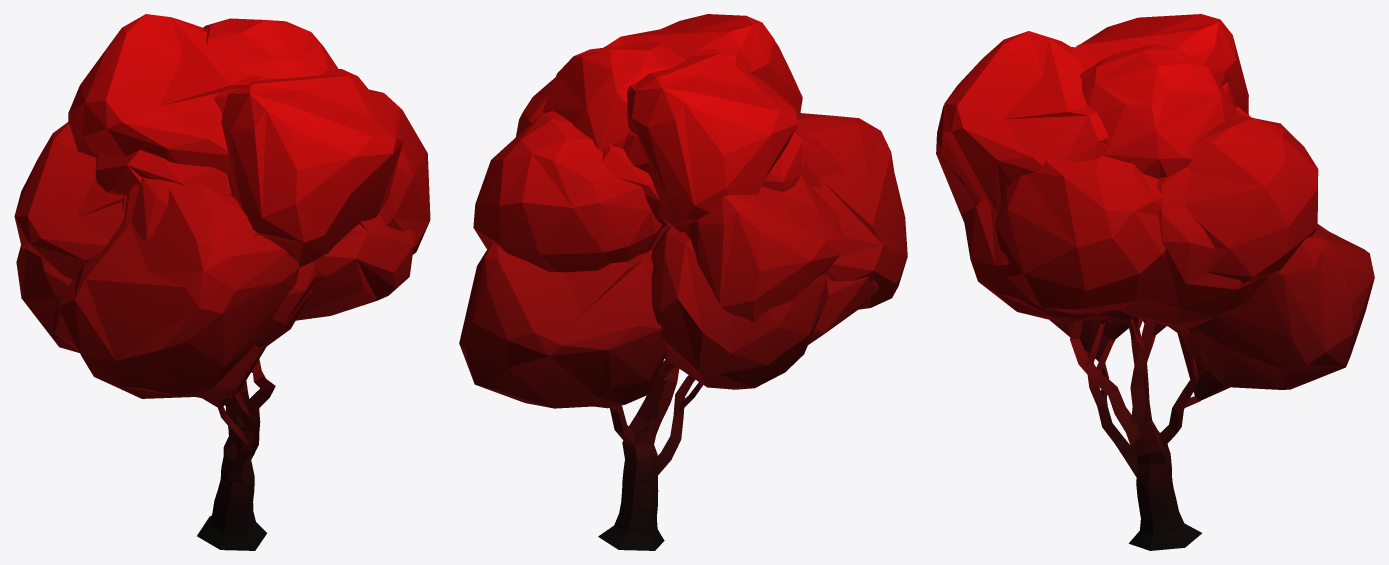
File: TreeMaple08.fbx
The picture shows the model from 3 angles, left to right: view 1: azimuth 30°, elevation 25°; view 2: azimuth 150°, elevation 25°; view 3: azimuth 270°, elevation 25°; orthographic projection. The views are drawn at different scales.
Parts seen in each view (by area): view 1: TreeMaple08_LOD0; view 2: TreeMaple08_LOD0; view 3: TreeMaple08_LOD0.
Boxes of the visible parts, x1,y1,x2,y2 form: TreeMaple08_LOD0: [14, 14, 430, 550]; TreeMaple08_LOD0: [459, 14, 907, 550]; TreeMaple08_LOD0: [936, 14, 1374, 550].
Size of what is drawn, in the model's own units: 639 by 866 by 699.
